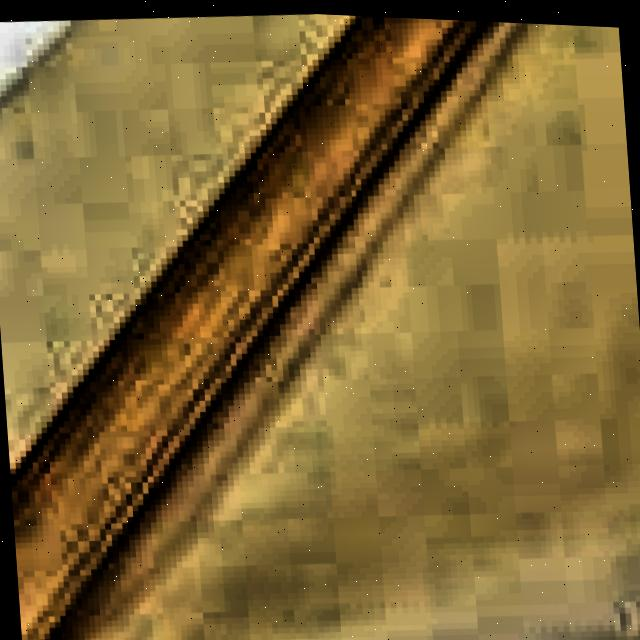paper: (0, 11, 640, 640)
